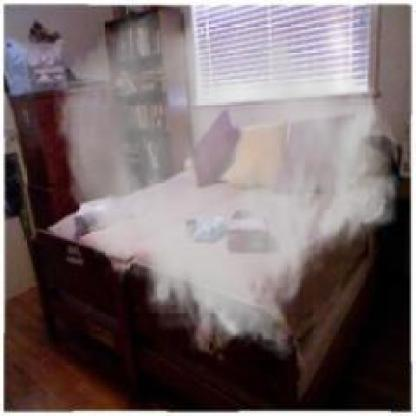Smoke: (49, 7, 403, 362)
